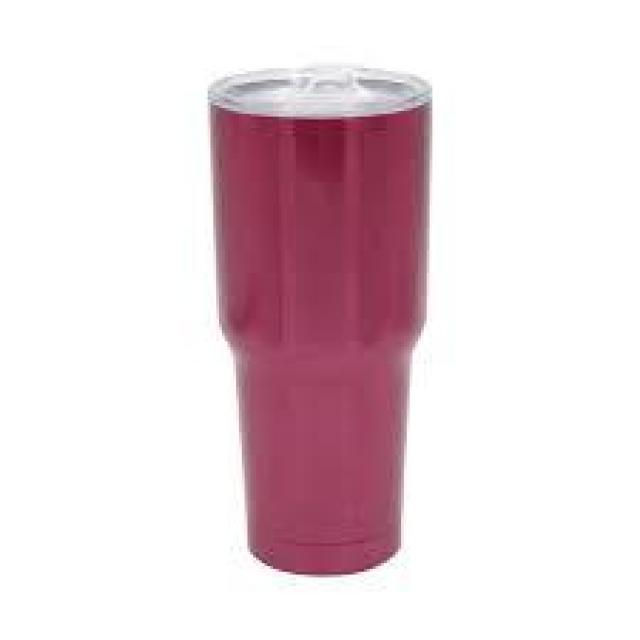bottle: (202, 61, 441, 579)
